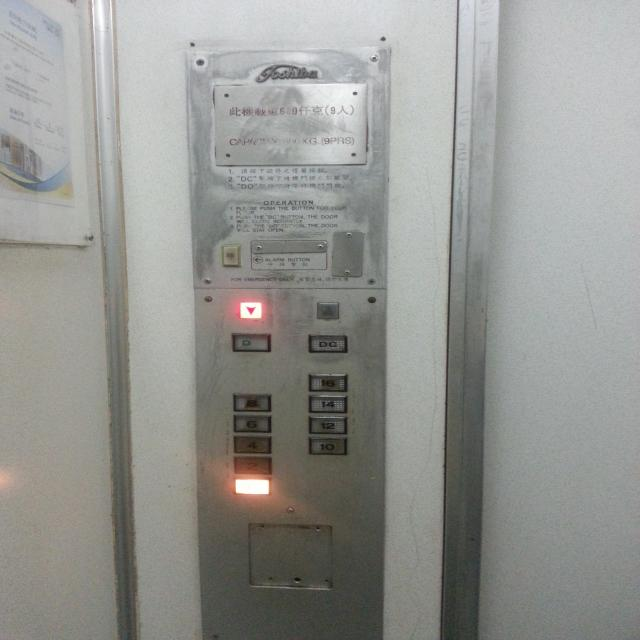10: (308, 436, 347, 456)
12: (308, 416, 347, 434)
14: (308, 394, 347, 414)
16: (308, 372, 347, 392)
2: (233, 456, 271, 475)
4: (233, 435, 271, 454)
6: (233, 414, 272, 433)
8: (232, 393, 272, 412)
D: (230, 332, 272, 353)
DC: (307, 332, 348, 353)
blur: (315, 301, 341, 320)
down: (238, 300, 263, 320)
empty: (233, 477, 270, 495)
text: (221, 244, 241, 268)
